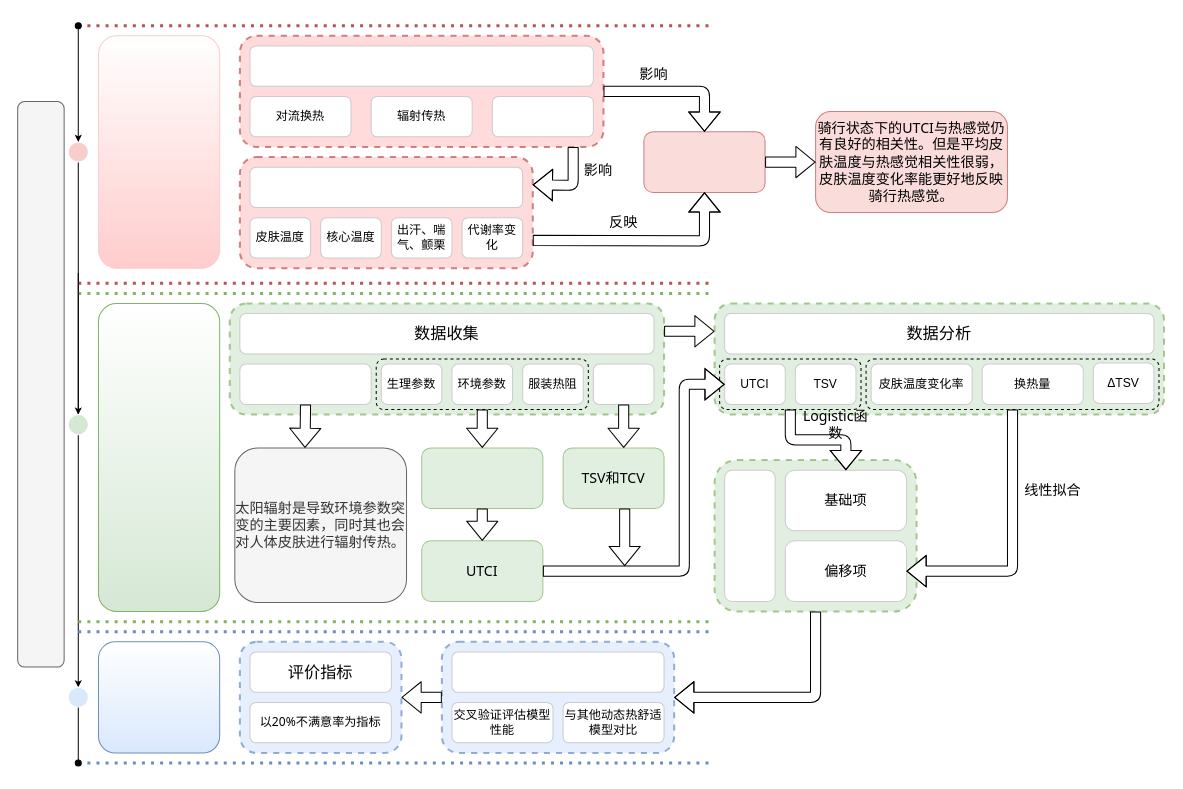
This 1183x789 diagram has some shape labels left out. The shapes that lost their labels are listed below. From the top down, each one's box as (x1, y1, x2, y2) in pixels, then its label:
(249, 45, 593, 86): 人体与环境之间的传热
(491, 95, 593, 137): 服装导热
(97, 35, 220, 268): 理论
(643, 131, 765, 192): 主观热感知
(249, 166, 523, 208): 人体对环境的反应
(17, 100, 64, 667): 电动自行车骑行人员在太阳辐射影响下热反应动态变化研究
(239, 363, 371, 405): 不同场景：阳光/阴影 不同季节：夏季、冬季
(592, 363, 654, 405): 7分制主观问卷
(97, 302, 220, 612): 实验与分析
(421, 447, 543, 509): Rayman Pro
(724, 469, 775, 601): 骑行的动态热感觉模型
(451, 651, 664, 692): 对比评价
(97, 641, 220, 753): 模型评价
